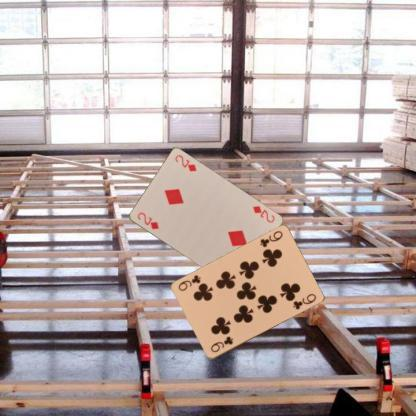2d: (250, 203, 276, 224), (135, 210, 160, 230)
9c: (257, 228, 284, 249), (208, 334, 234, 354)
